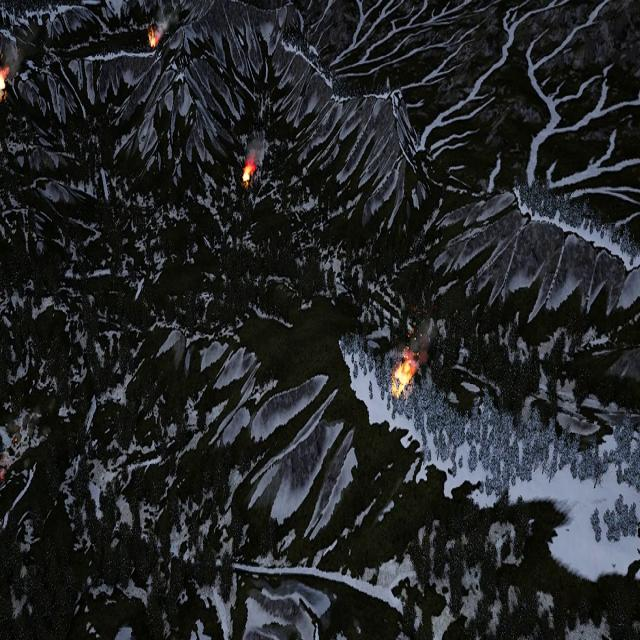fire: (392, 360, 414, 395), (242, 161, 255, 184), (0, 67, 8, 96), (148, 31, 158, 47)
smoke: (408, 312, 434, 373), (1, 40, 23, 77), (245, 132, 266, 166), (154, 8, 173, 34)
